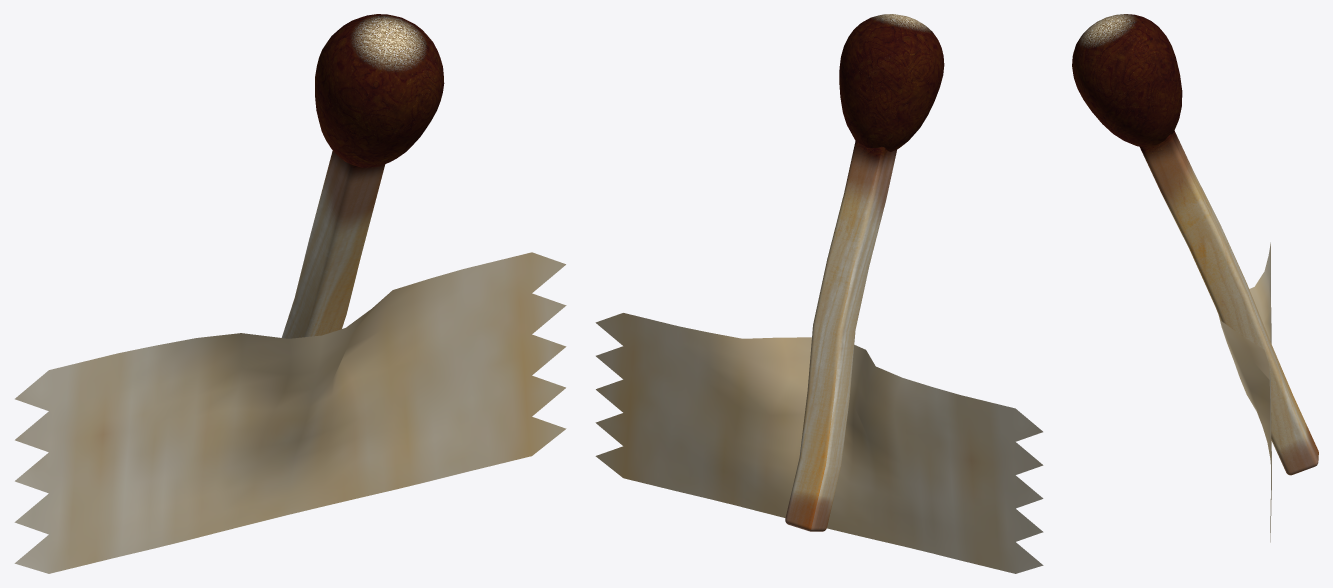
The model's file is Torch.fbx.
3 renders of one model, left to right at view 1: azimuth 30°, elevation 25°; view 2: azimuth 150°, elevation 25°; view 3: azimuth 270°, elevation 25°, orthographic. The views are drawn at different scales.
Visible parts, largest first — view 1: Plane.001; view 2: Plane.001; view 3: Plane.001.
Part boxes in pixels (<box>): Plane.001: <box>14,14,566,573</box>; Plane.001: <box>595,14,1043,573</box>; Plane.001: <box>1072,14,1318,542</box>.
Bounding box in the file's own units: 118 × 115 × 56.
